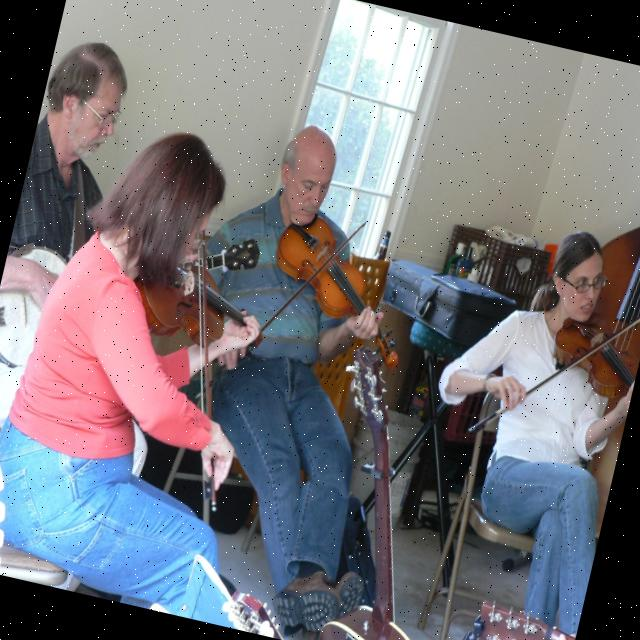guitar: (282, 343, 495, 640)
violin: (255, 206, 429, 372), (125, 245, 278, 360), (543, 303, 640, 400)
